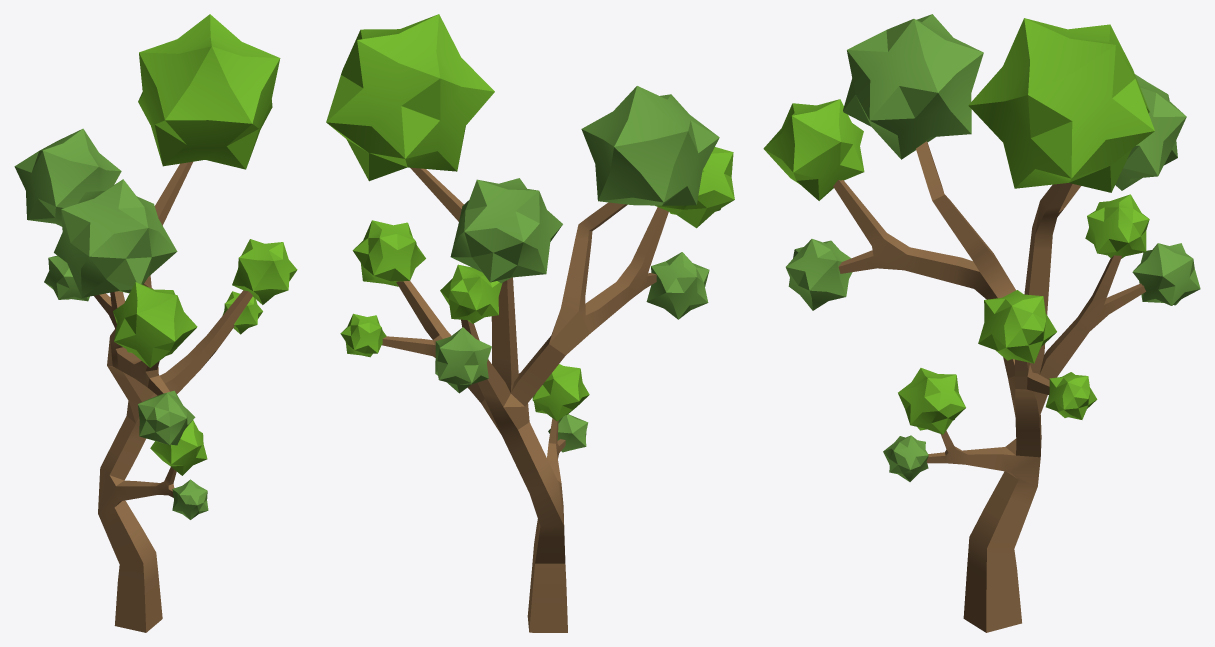
The model's file is Tree1_Normal.fbx.
3 views of the same model, side by side, from view 1: azimuth 30°, elevation 25°; view 2: azimuth 150°, elevation 25°; view 3: azimuth 270°, elevation 25° (orthographic). The views are drawn at different scales.
Parts seen in each view (by area): view 1: Baum1_Normal; view 2: Baum1_Normal; view 3: Baum1_Normal.
Boxes of the visible parts, x1,y1,x2,y2 form: Baum1_Normal: [14, 14, 297, 632]; Baum1_Normal: [326, 14, 734, 632]; Baum1_Normal: [763, 14, 1200, 632].
Size of the model in its own units: 270 by 522 by 316.
